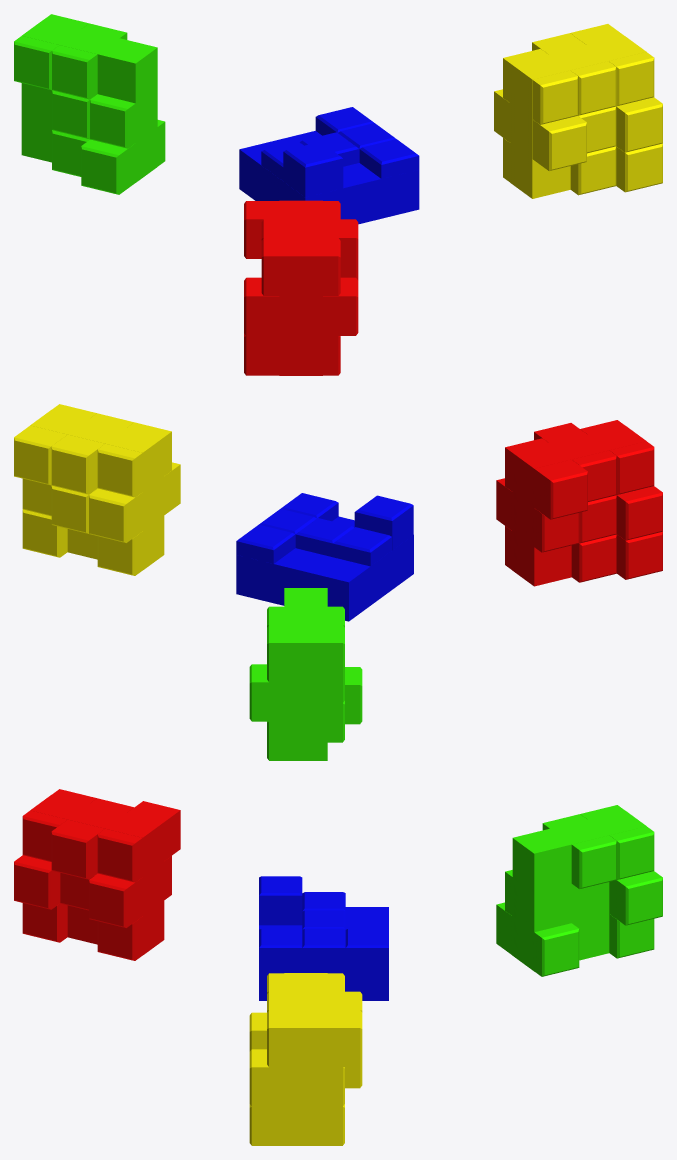
The model's file is stage_1.obj.
3 views of the same model, one above another, from view 1: azimuth 30°, elevation 25°; view 2: azimuth 150°, elevation 25°; view 3: azimuth 270°, elevation 25° (orthographic).
Parts seen in each view (by area): view 1: object_3, object_2, object_1, object_4; view 2: object_1, object_3, object_4, object_2; view 3: object_1, object_2, object_3, object_4.
Part boxes in pixels (x1,y1,x2,y2): object_3: [494, 24, 662, 198]; object_2: [14, 14, 165, 194]; object_1: [244, 200, 358, 375]; object_4: [239, 107, 419, 224]; object_1: [496, 420, 662, 586]; object_3: [14, 404, 180, 575]; object_4: [236, 493, 413, 621]; object_2: [249, 588, 362, 760]; object_1: [14, 789, 180, 960]; object_2: [496, 805, 662, 976]; object_3: [249, 973, 362, 1145]; object_4: [259, 876, 388, 1000].
Bounding box in the file's own units: 67.1 × 15 × 74.87.
